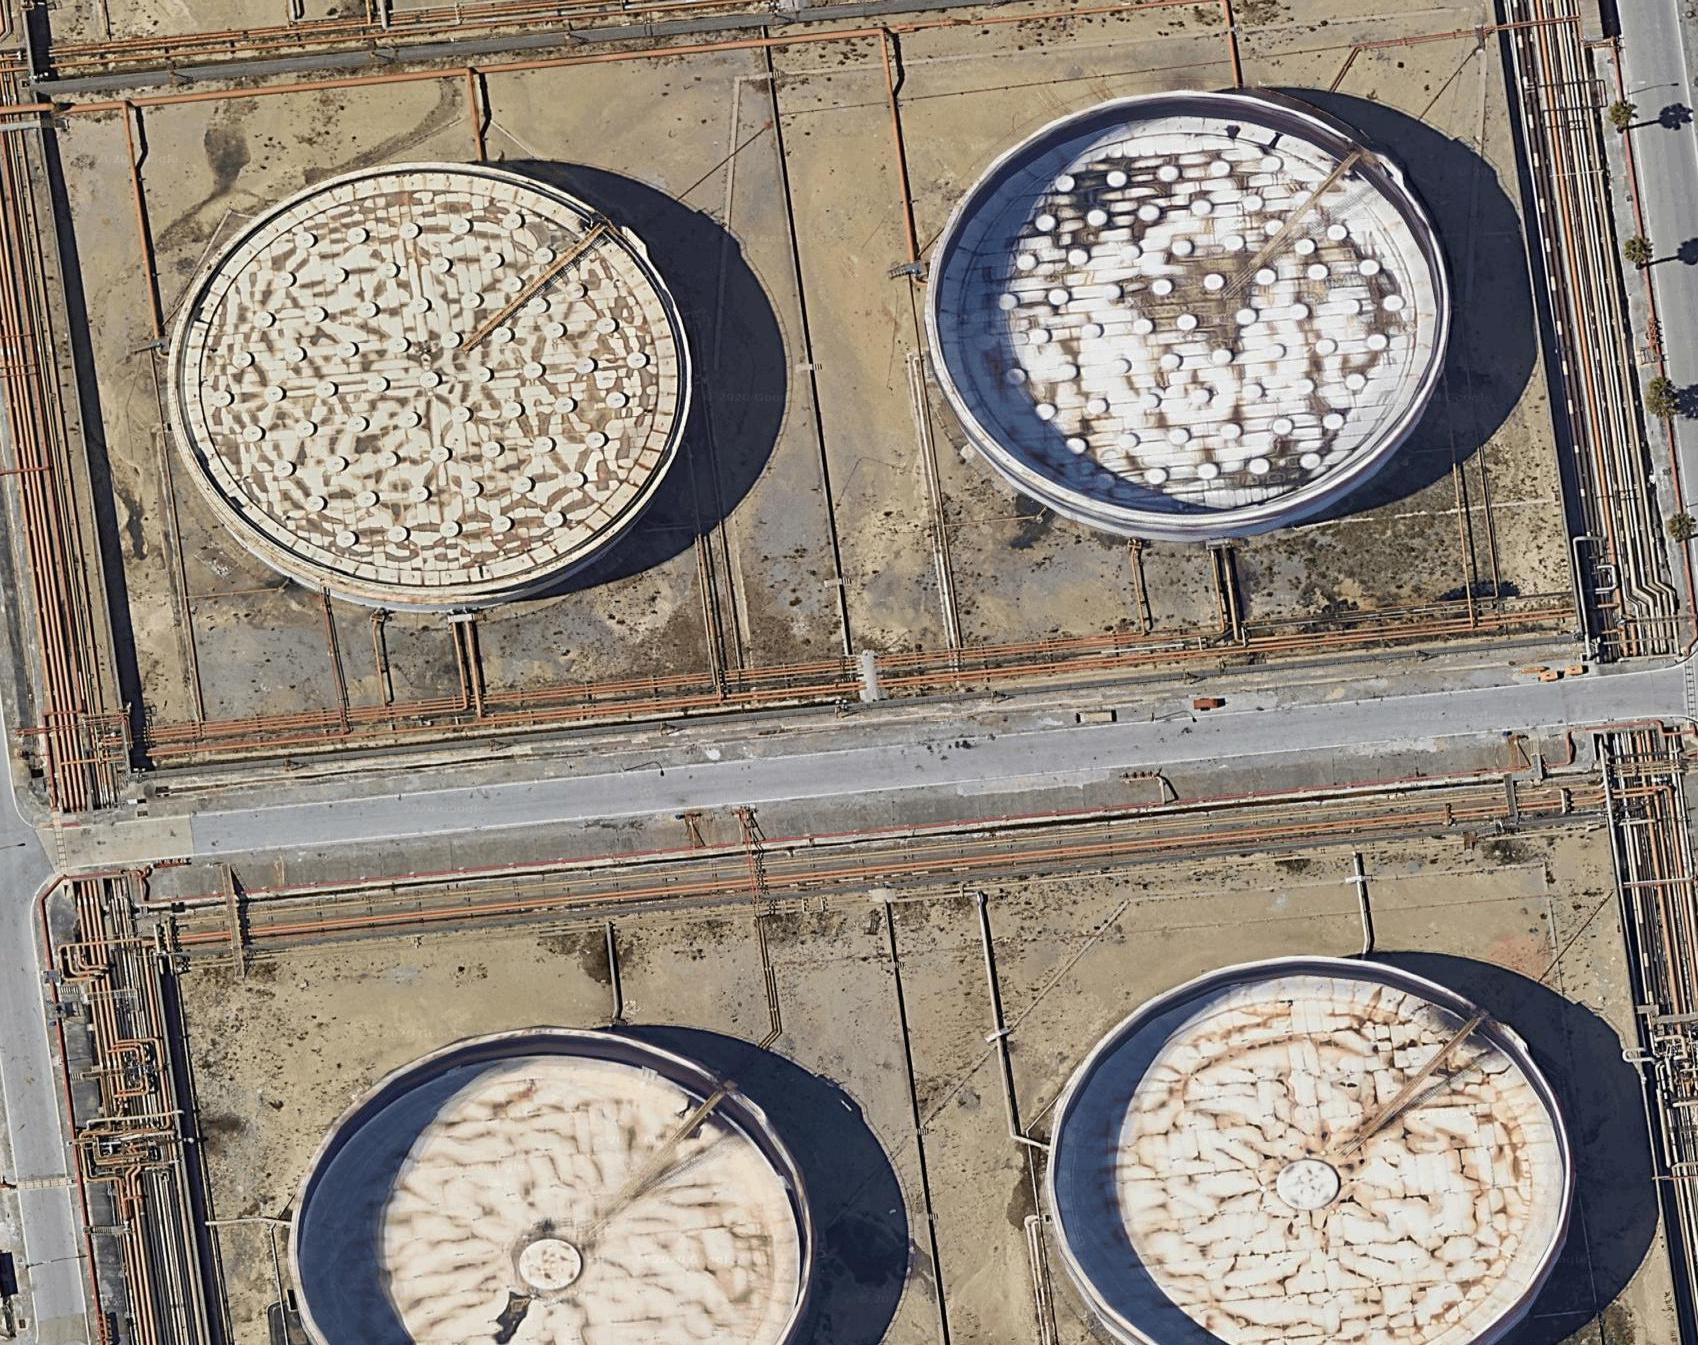storage-tank: (134, 130, 717, 650), (899, 76, 1489, 542), (1024, 936, 1588, 1345), (254, 1013, 837, 1345)
